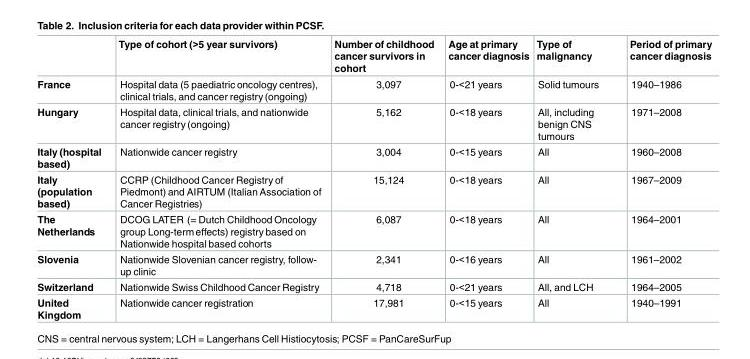table: (36, 37, 711, 320)
table column: (109, 37, 327, 320), (327, 37, 440, 320), (613, 37, 711, 320), (440, 37, 532, 320), (532, 37, 613, 320), (36, 37, 109, 320)
table column header: (36, 37, 711, 75)
table row: (36, 103, 711, 143), (36, 210, 711, 250), (36, 171, 711, 210), (36, 37, 711, 75), (36, 75, 711, 103), (36, 143, 711, 171), (36, 250, 711, 278), (36, 294, 711, 320), (36, 278, 711, 294)
